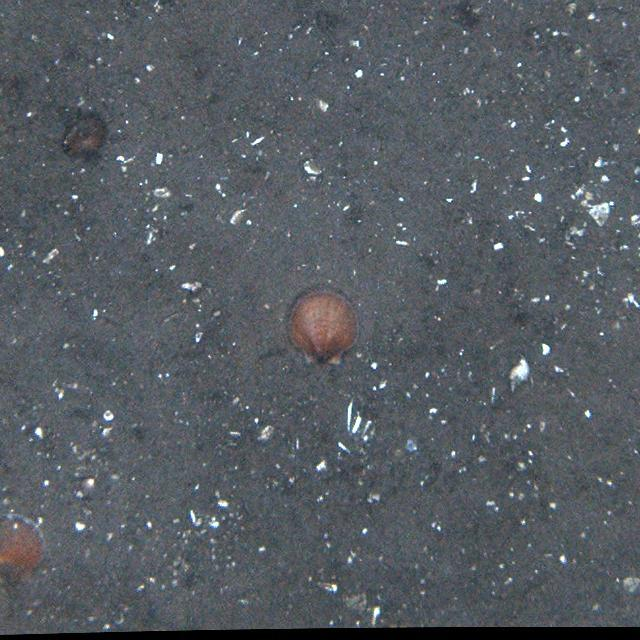scallop: (287, 285, 361, 368), (1, 514, 49, 592)
